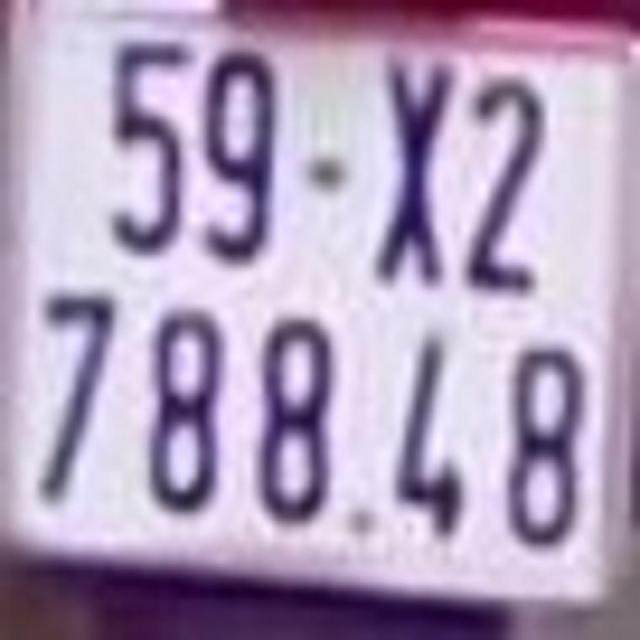2: (462, 59, 544, 298)
4: (389, 324, 467, 546)
5: (109, 32, 192, 255)
7: (38, 274, 119, 511)
8: (145, 283, 224, 519), (255, 294, 330, 536), (502, 337, 584, 553)
9: (198, 36, 278, 264)
X: (376, 48, 452, 288)
